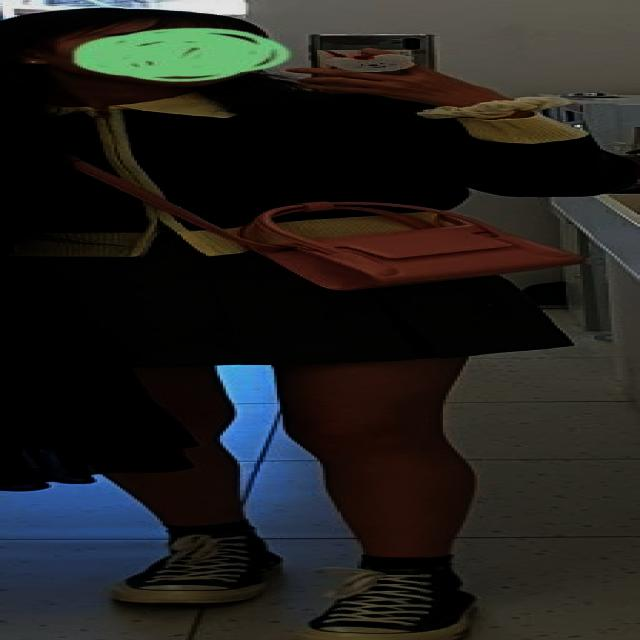cardigan: (0, 90, 640, 268)
skirt: (20, 232, 577, 370)
